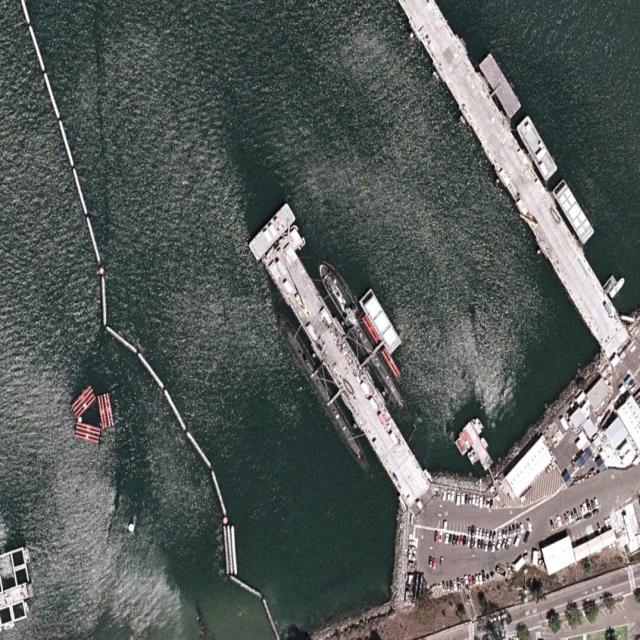Other Ship: (607, 277, 626, 300)
Submarine: (271, 303, 379, 488), (312, 254, 420, 436)
